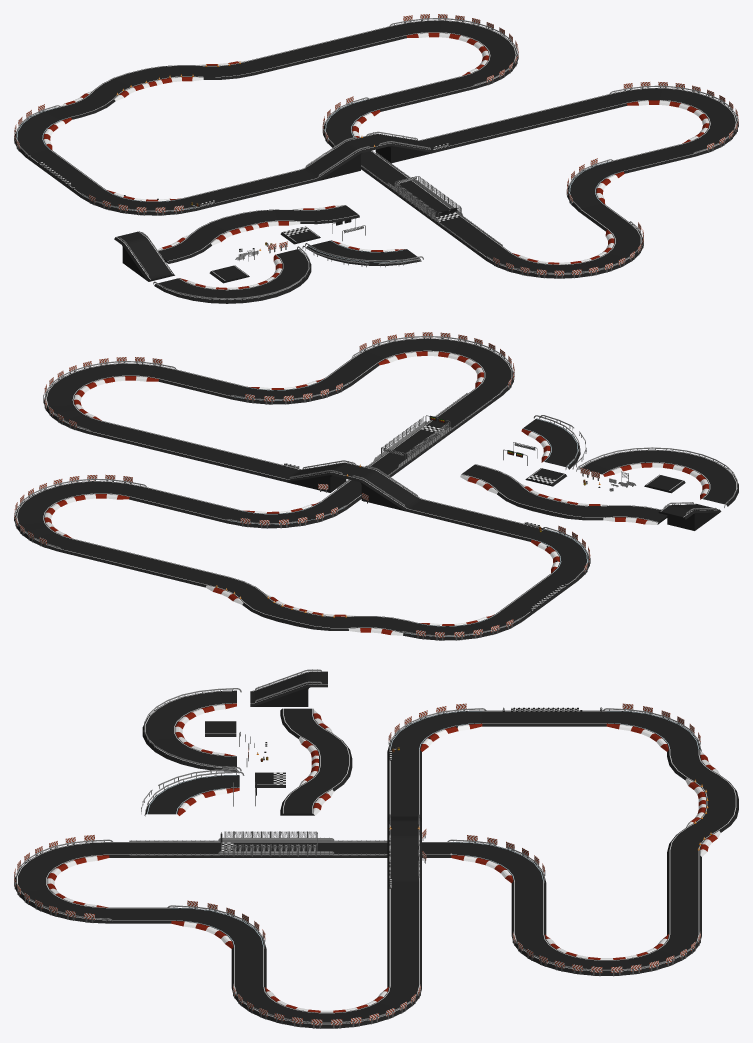
The model's file is lowpoly_racetrack.glb.
The picture shows the model from 3 angles, top to bottom: view 1: azimuth 30°, elevation 25°; view 2: azimuth 150°, elevation 25°; view 3: azimuth 270°, elevation 25°; orthographic projection. The views are drawn at different scales.
Parts seen in each view (by area): view 1: 30Turn.004_91, 30Turn.001_146, 180Turn.006_148, 180Turn.003_94, 180Turn.001_101, straight.005_89, 180Turn.002_102, bridge.001_83, straight.007_95, straight.006_90, straight.001_75, bridge.002_143 (+11 smaller); view 2: 30Turn.004_91, 30Turn.001_146, 180Turn.006_148, 180Turn.002_102, 180Turn.001_101, 180Turn.003_94, straight.005_89, bridge.001_83, straight.007_95, straight.006_90, straight.001_75, 90Turn.007_147 (+11 smaller); view 3: 30Turn.001_146, 30Turn.004_91, 180Turn.006_148, 180Turn.002_102, straight.005_89, 180Turn.001_101, 180Turn.003_94, straight.007_95, straight.001_75, bridge.001_83, straight.006_90, 90Turn.001_98 (+12 smaller).
Boxes of the visible parts, left/top/right/bottom form: 30Turn.004_91: left=57, top=60, right=263, bottom=119; 30Turn.001_146: left=157, top=205, right=359, bottom=263; 180Turn.006_148: left=154, top=249, right=311, bottom=303; 180Turn.003_94: left=393, top=20, right=518, bottom=88; 180Turn.001_101: left=613, top=87, right=738, bottom=156; straight.005_89: left=421, top=93, right=627, bottom=152; 180Turn.002_102: left=486, top=224, right=642, bottom=278; bridge.001_83: left=302, top=133, right=435, bottom=181; straight.007_95: left=249, top=25, right=406, bottom=72; straight.006_90: left=182, top=169, right=315, bottom=210; straight.001_75: left=335, top=147, right=455, bottom=219; bridge.002_143: left=114, top=231, right=174, bottom=281; 30Turn.004_91: left=205, top=575, right=417, bottom=635; 30Turn.001_146: left=460, top=464, right=667, bottom=524; 180Turn.006_148: left=577, top=449, right=738, bottom=506; 180Turn.002_102: left=354, top=338, right=513, bottom=394; 180Turn.001_101: left=44, top=363, right=172, bottom=433; 180Turn.003_94: left=14, top=481, right=143, bottom=551; straight.005_89: left=87, top=421, right=297, bottom=481; bridge.001_83: left=284, top=462, right=422, bottom=511; straight.007_95: left=58, top=538, right=220, bottom=587; straight.006_90: left=407, top=499, right=545, bottom=541; straight.001_75: left=322, top=429, right=445, bottom=509; 90Turn.007_147: left=521, top=418, right=580, bottom=469; 30Turn.001_146: left=280, top=708, right=352, bottom=815; 30Turn.004_91: left=667, top=750, right=738, bottom=856; 180Turn.006_148: left=142, top=690, right=236, bottom=771; 180Turn.002_102: left=15, top=842, right=109, bottom=923; straight.005_89: left=387, top=881, right=421, bottom=987; 180Turn.001_101: left=232, top=986, right=421, bottom=1028; 180Turn.003_94: left=511, top=934, right=701, bottom=975; straight.007_95: left=667, top=855, right=701, bottom=935; straight.001_75: left=233, top=842, right=451, bottom=857; bridge.001_83: left=387, top=815, right=421, bottom=882; straight.006_90: left=387, top=750, right=421, bottom=816; 90Turn.001_98: left=451, top=842, right=546, bottom=883.
Size of the model in its own units: 256 by 8.61 by 233.
1 material, 1 textured.
